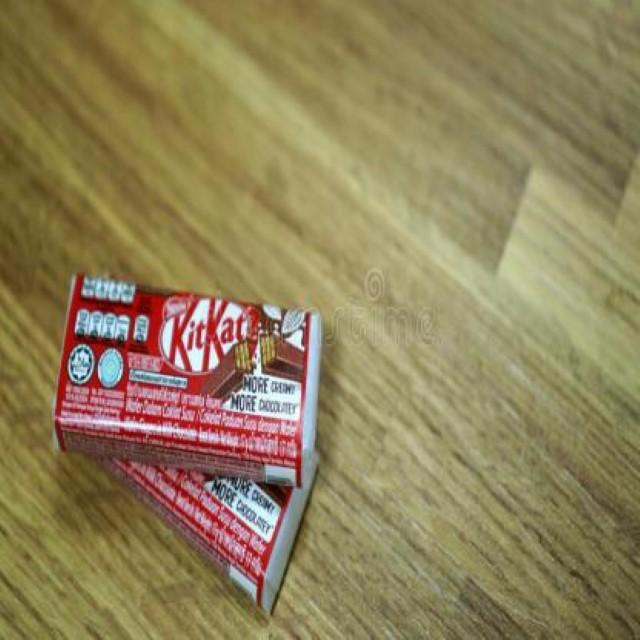kitkat_chocolate: (87, 263, 328, 475)
